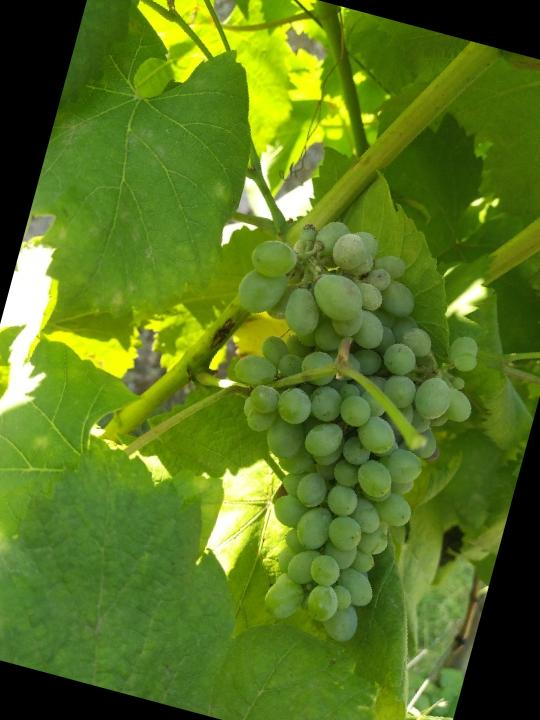grape: (154, 203, 510, 661)
